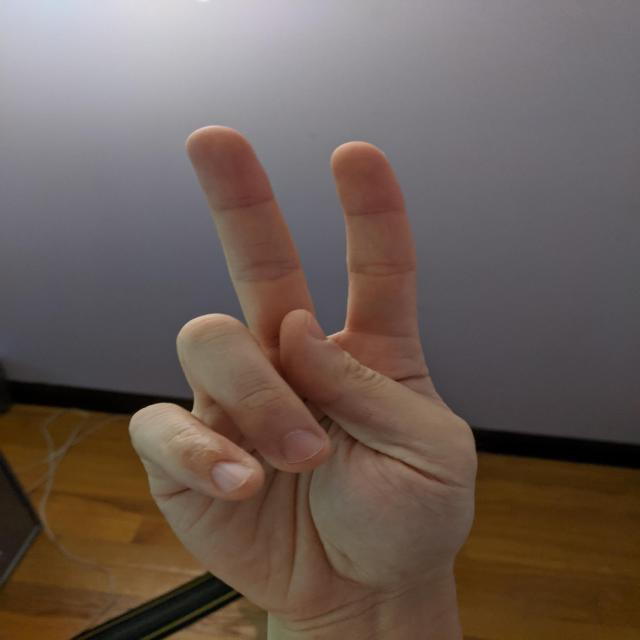K: (118, 118, 485, 616)
